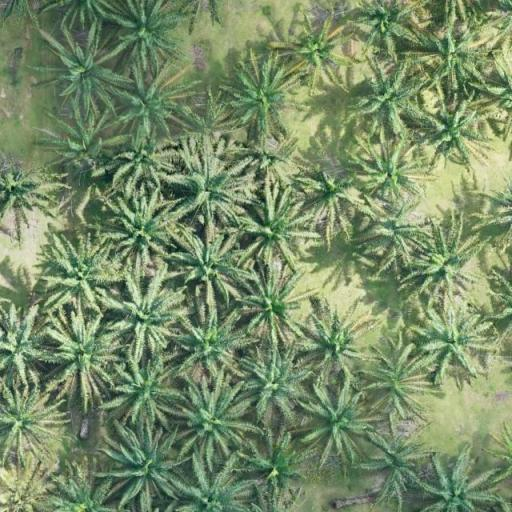Ganoderma: (296, 30, 342, 72), (5, 475, 39, 509)
